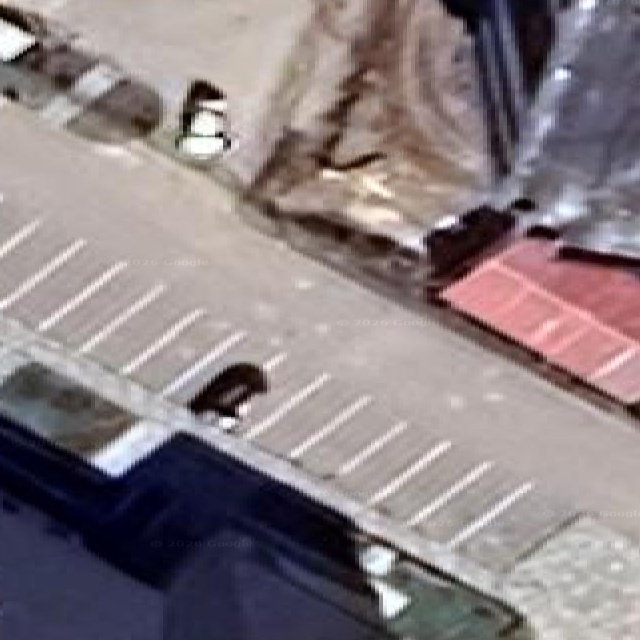car: (426, 204, 512, 272), (187, 364, 267, 427), (176, 80, 232, 160)
